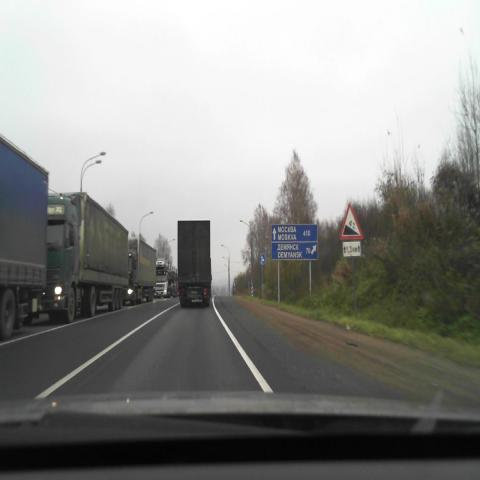1_13: (339, 202, 364, 239)
8_2_1: (342, 240, 361, 256)
